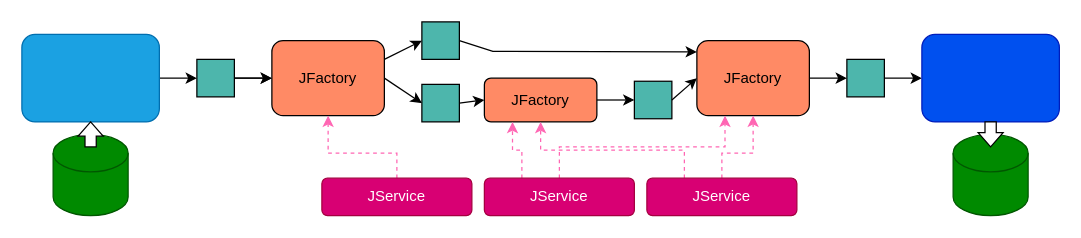
This 1081x238 diagram has some shape labels left out. The shapes that lost their labels are listed below. From the top down, each one's centre as x and y in pixels, then its label:
the point at 90,77: JEvent Source
the point at 990,77: JEventProcessor
